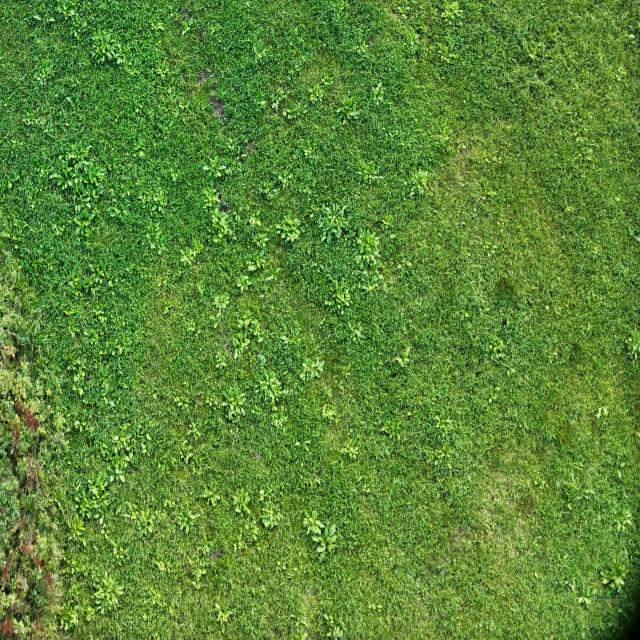rumex: (106, 70, 182, 164), (420, 2, 495, 82), (88, 310, 138, 377), (72, 476, 110, 530), (431, 408, 461, 474), (61, 141, 99, 189), (1, 308, 36, 356), (73, 264, 109, 308), (72, 162, 106, 208), (122, 500, 160, 541), (90, 572, 125, 616), (32, 527, 64, 570), (172, 497, 205, 538), (66, 342, 92, 394), (57, 589, 85, 633), (319, 203, 347, 245), (177, 425, 202, 470), (324, 278, 354, 314), (257, 368, 283, 409), (220, 384, 248, 422), (0, 484, 21, 534), (208, 202, 234, 242), (140, 217, 168, 254), (355, 230, 383, 266), (176, 238, 204, 272), (599, 561, 628, 593), (355, 157, 384, 188), (242, 247, 270, 279), (65, 266, 89, 303), (0, 364, 23, 401), (612, 499, 636, 534), (275, 214, 303, 244), (108, 447, 132, 481), (259, 498, 281, 533), (202, 153, 230, 180), (572, 578, 598, 607), (32, 55, 54, 89), (307, 79, 330, 111), (268, 82, 290, 115), (337, 93, 362, 122), (407, 168, 431, 198), (299, 356, 324, 384), (201, 187, 225, 216), (66, 9, 88, 40), (230, 487, 252, 518), (67, 508, 88, 540), (322, 612, 346, 640), (278, 94, 302, 121), (232, 328, 253, 358), (338, 434, 361, 461), (74, 211, 96, 239), (273, 166, 295, 194), (522, 33, 543, 62), (303, 509, 324, 537), (440, 0, 464, 24), (381, 416, 403, 442), (233, 272, 254, 298), (252, 36, 272, 63), (212, 290, 232, 316), (199, 484, 219, 510), (212, 600, 232, 626), (270, 406, 288, 434), (352, 36, 370, 63), (360, 272, 382, 294), (625, 326, 640, 358), (488, 336, 506, 362), (626, 13, 640, 43), (434, 412, 453, 434), (189, 560, 208, 582), (370, 81, 386, 107), (405, 27, 421, 52), (132, 137, 148, 162), (35, 533, 50, 557), (321, 401, 338, 422), (88, 260, 105, 279), (214, 348, 228, 371), (612, 62, 628, 82), (487, 384, 502, 405), (21, 110, 39, 127), (246, 214, 262, 232), (149, 17, 166, 33), (367, 599, 385, 614), (438, 45, 452, 64), (381, 212, 395, 230), (594, 404, 608, 419), (400, 343, 411, 362), (327, 523, 338, 541), (351, 325, 364, 340), (276, 556, 288, 572), (181, 21, 191, 38), (74, 224, 86, 238), (627, 227, 639, 239), (112, 464, 122, 478), (74, 203, 84, 215), (188, 510, 199, 520), (246, 262, 256, 272), (321, 232, 328, 244), (32, 14, 42, 22), (151, 203, 159, 212), (116, 56, 124, 65), (46, 387, 52, 397), (114, 436, 120, 442)
